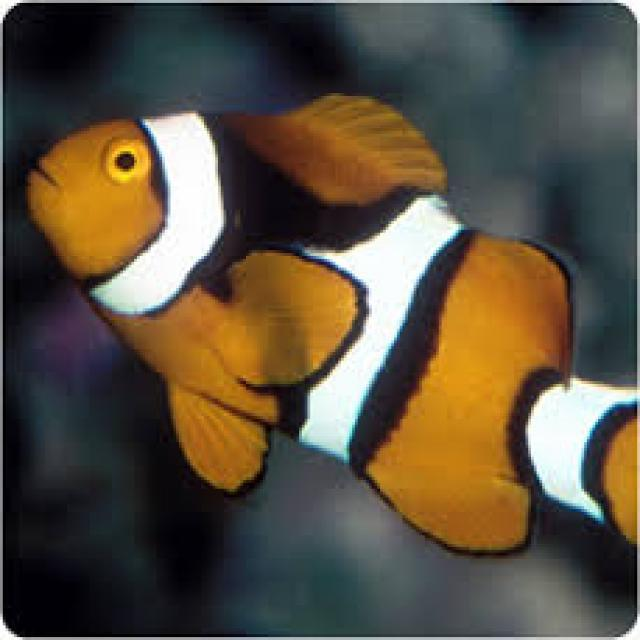ClownFish: (24, 83, 640, 556)
